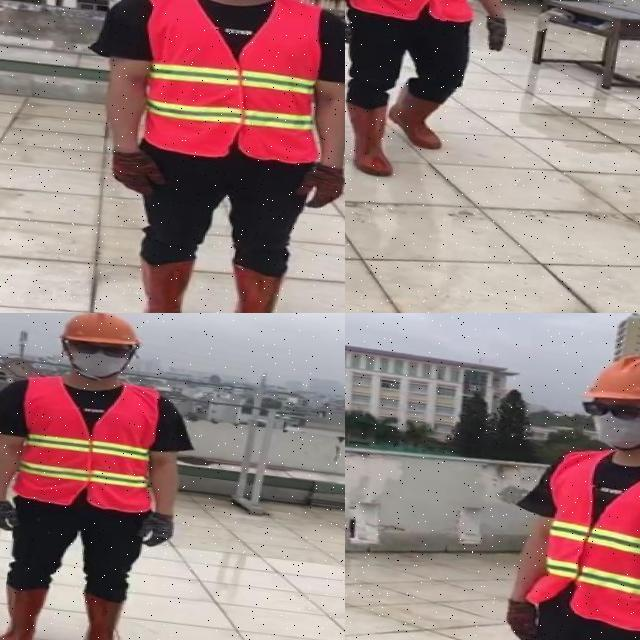boots: (386, 76, 452, 150), (219, 259, 308, 313), (345, 99, 402, 177), (121, 254, 191, 313), (76, 591, 143, 640), (0, 581, 52, 640)
helmet: (581, 345, 640, 414), (53, 313, 144, 350)
vest: (122, 0, 332, 168), (3, 374, 166, 519), (526, 441, 640, 636)
